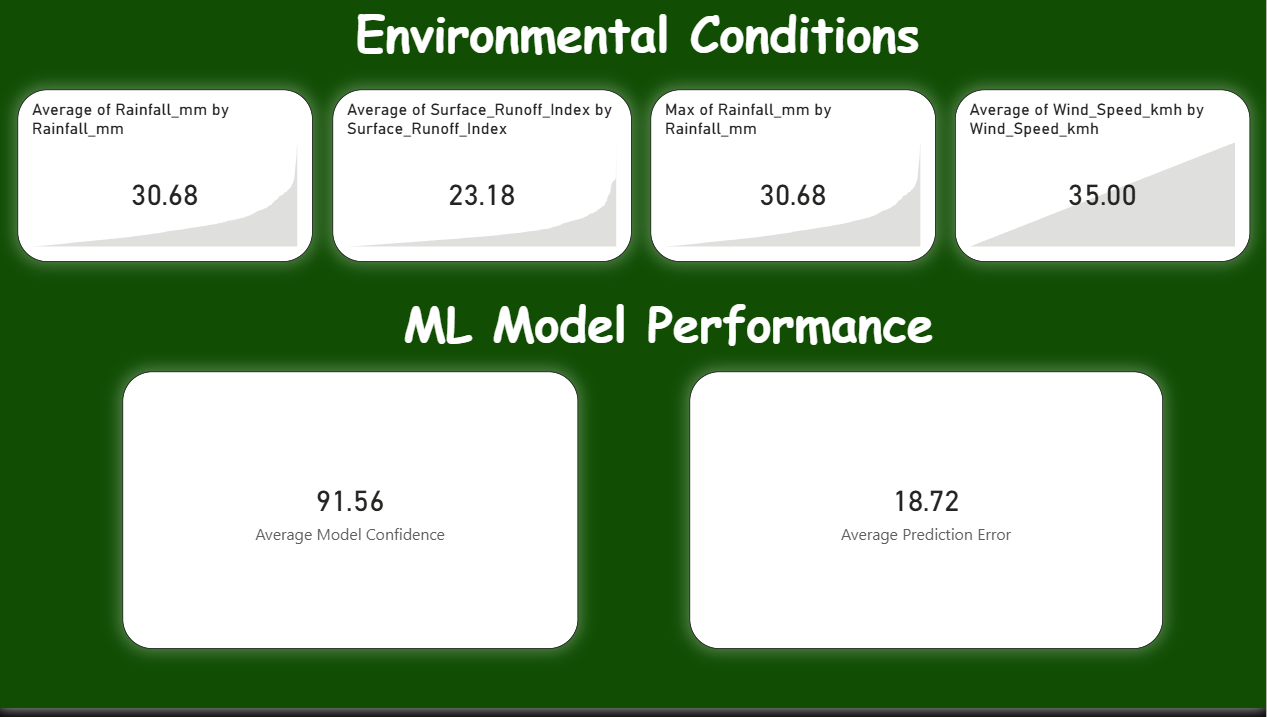

The dashboard page shown, as its layout file describes it:
{"tool":"powerbi","page":{"name":"Environmental Conditions","canvas":[1280,720],"ordinal":4},"visuals":[{"type":"kpi","fields":{"Indicator":["Avg(DIM_Weather.Rainfall_mm)"],"TrendLine":["DIM_Weather.Rainfall_mm"]},"box":[20,96,298,174],"z":0},{"type":"kpi","fields":{"Indicator":["Avg(DIM_Weather.Wind_Speed_kmh)"],"TrendLine":["DIM_Weather.Wind_Speed_kmh"]},"box":[966,96,298,174],"z":1000},{"type":"kpi","fields":{"Indicator":["Avg(DIM_Weather.Surface_Runoff_Index)"],"TrendLine":["DIM_Weather.Surface_Runoff_Index"]},"box":[338,96,302,174],"z":2000},{"type":"kpi","fields":{"Indicator":["Max(DIM_Weather.Rainfall_mm)"],"TrendLine":["DIM_Weather.Rainfall_mm"]},"box":[658,96,288,174],"z":3000},{"type":"textbox","box":[356,0,820,174],"z":3001},{"type":"textbox","box":[404,292,712,174],"z":3002},{"type":"card","fields":{"Values":["ML_Predictions.Average Model Confidence"]},"box":[126,380,460,280],"z":3003},{"type":"card","fields":{"Values":["ML_Predictions.Average Prediction Error"]},"box":[698,380,478,280],"z":3004}]}

Visuals, with their boxes in screenshot pixels (x1, y1, x2, y2), scaled from the page's 1280x720 canvas onto the 1267x717 screenshot:
kpi - Avg(DIM_Weather.Rainfall_mm) x DIM_Weather.Rainfall_mm: l=20, t=96, r=315, b=269
kpi - Avg(DIM_Weather.Wind_Speed_kmh) x DIM_Weather.Wind_Speed_kmh: l=956, t=96, r=1251, b=269
kpi - Avg(DIM_Weather.Surface_Runoff_Index) x DIM_Weather.Surface_Runoff_Index: l=335, t=96, r=634, b=269
kpi - Max(DIM_Weather.Rainfall_mm) x DIM_Weather.Rainfall_mm: l=651, t=96, r=936, b=269
textbox: l=352, t=0, r=1164, b=173
textbox: l=400, t=291, r=1105, b=464
card - ML_Predictions.Average Model Confidence: l=125, t=378, r=580, b=657
card - ML_Predictions.Average Prediction Error: l=691, t=378, r=1164, b=657
